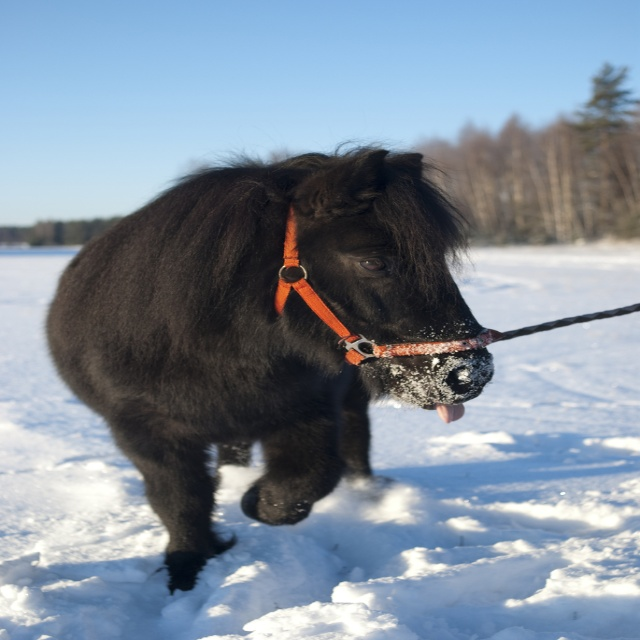Horse: (43, 141, 494, 591)
